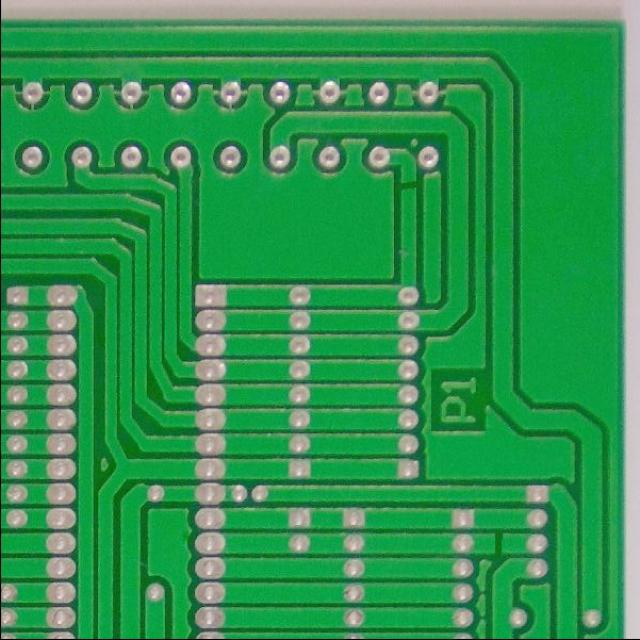Open_Circuit: (482, 516, 514, 566), (392, 173, 426, 199)
